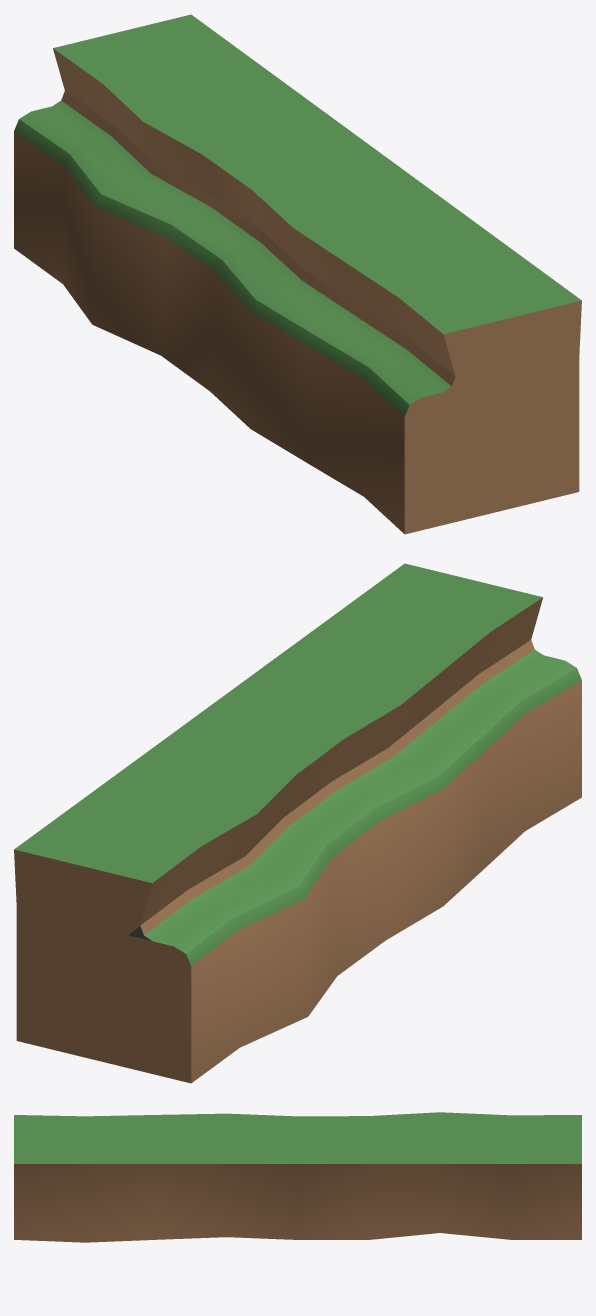
The model's file is Hill.fbx.
3 renders of one model, top to bottom at view 1: azimuth 30°, elevation 25°; view 2: azimuth 150°, elevation 25°; view 3: azimuth 270°, elevation 25°, orthographic. The views are drawn at different scales.
Visible parts, largest first — view 1: Mountain.004; view 2: Mountain.004; view 3: Mountain.004.
Boxes of the visible parts, <box> form: Mountain.004: <box>14,14,581,534</box>; Mountain.004: <box>14,563,581,1083</box>; Mountain.004: <box>14,1112,581,1242</box>.
Size of the model in its own units: 465 by 431 by 1600.
Materials: 1 (1 with a texture image).
